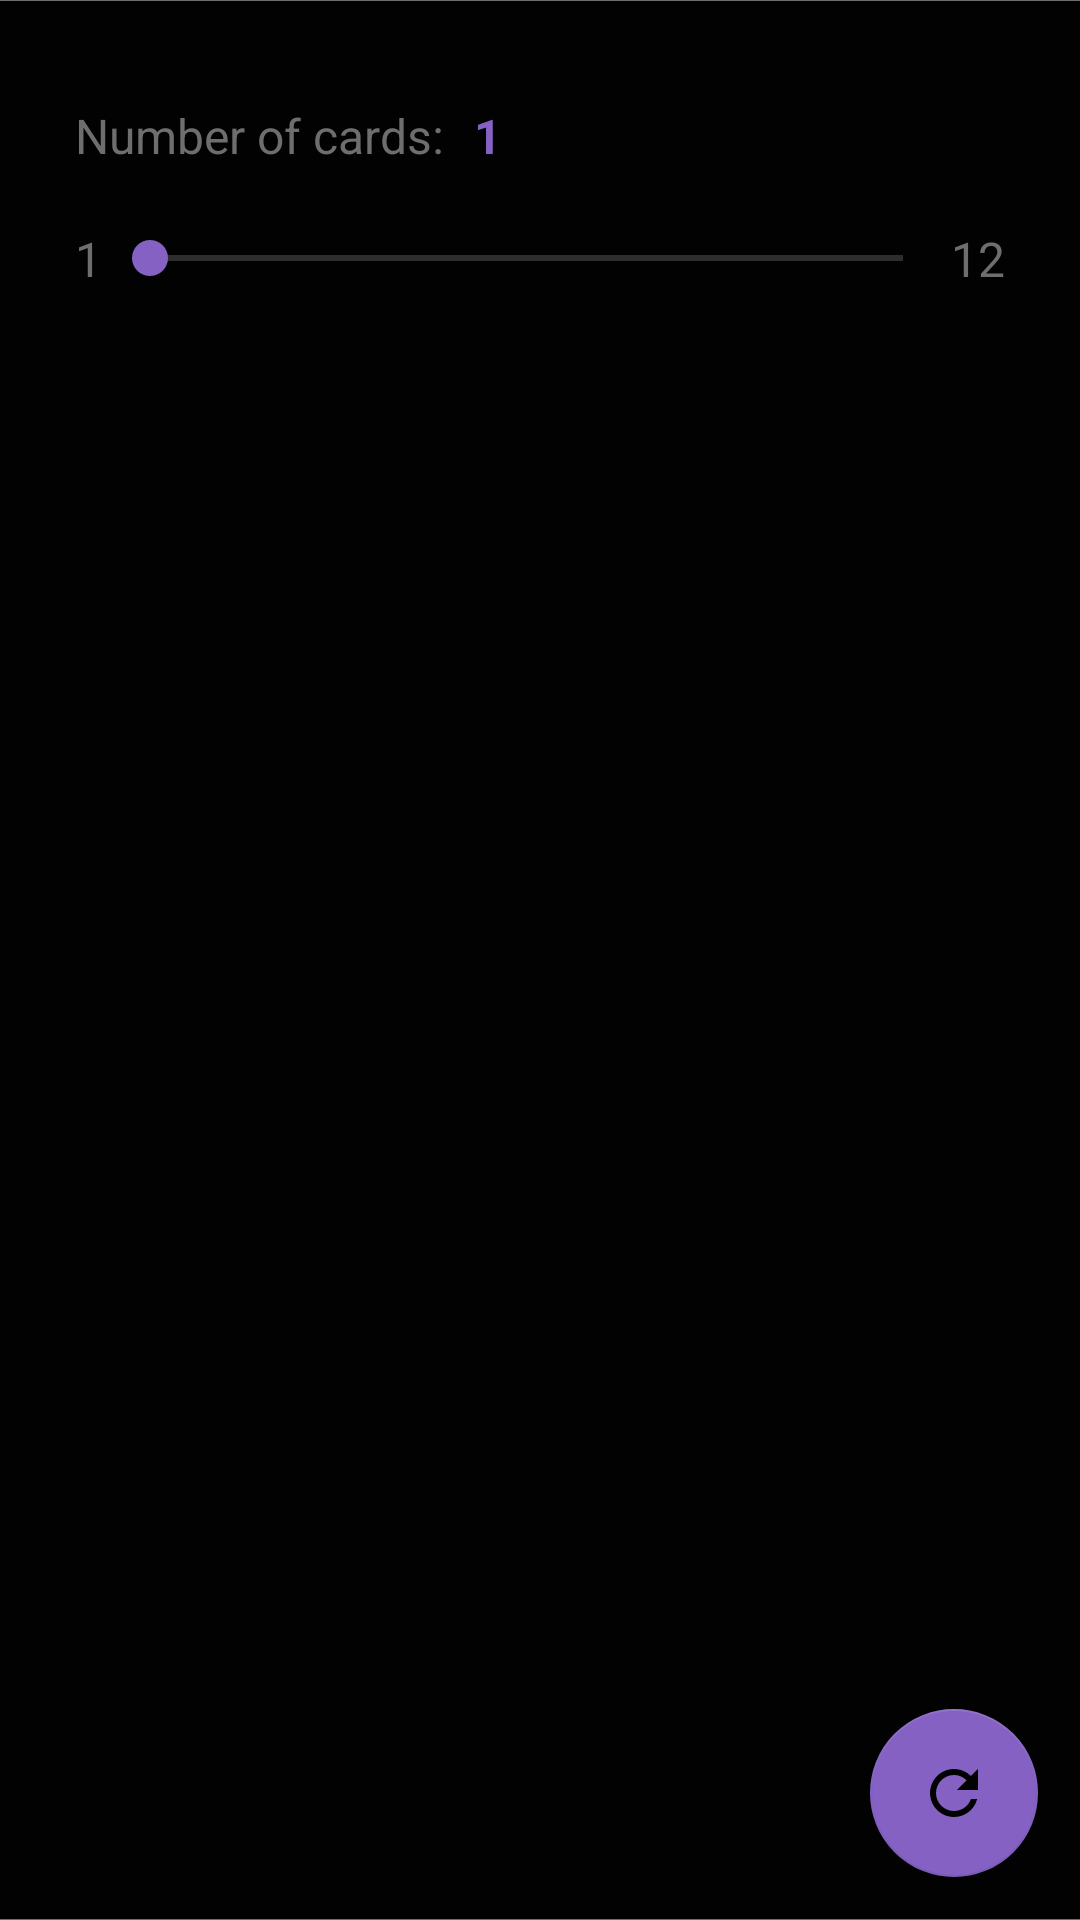

Locate icon controls on the screen. Image size 1080x1920, boxes as (x1, y1, x2, y2).
refresh: (870, 1709, 1038, 1877)
